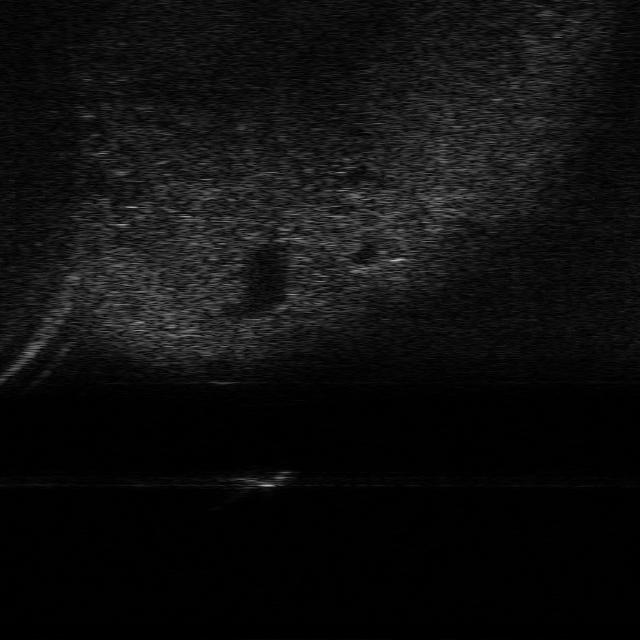cube: (236, 464, 295, 488)
